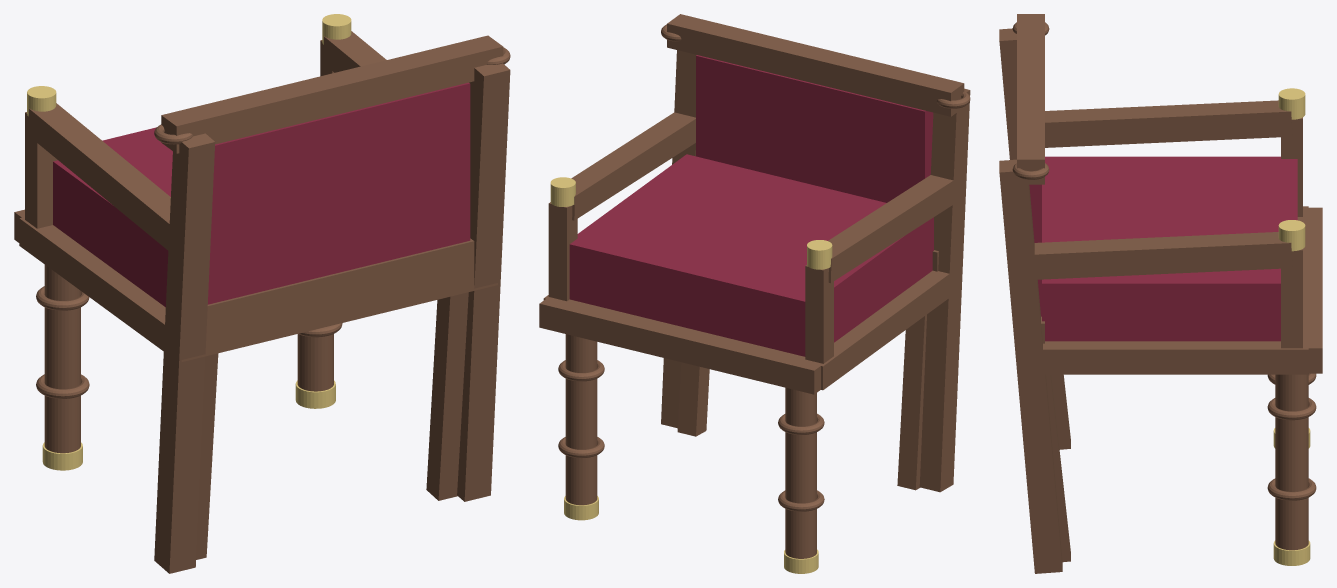
File: 10_armchair.fbx
The picture shows the model from 3 angles, left to right: view 1: azimuth 30°, elevation 25°; view 2: azimuth 150°, elevation 25°; view 3: azimuth 270°, elevation 25°; orthographic projection. The views are drawn at different scales.
Parts seen in each view (by area): view 1: BackPanel, BackPostL, BackPostR, BackRailTop, SeatCushion, BackRailBot, ArmL, SeatRailB, SeatRailL, BackLeg_24, FrontLeg_-24, BackLeg_-24 (+9 smaller); view 2: SeatCushion, BackPanel, BackPostL, BackRailTop, SeatRailF, ArmL, ArmR, SeatRailL, FrontLeg_24, FrontLeg_-24, BackLeg_-24, BackPostR (+7 smaller); view 3: SeatCushion, BackPostR, ArmR, ArmL, SeatRailR, FrontLeg_24, BackRailTop, SeatRailF, ArmPostR, BackPostL, BackLeg_24, ArmPostL (+7 smaller).
Boxes of the visible parts, box(x1,y1,x2,y2) form: BackPanel: box(207, 82, 470, 304); BackPostL: box(154, 133, 215, 573); BackPostR: box(457, 63, 510, 501); BackRailTop: box(161, 35, 503, 153); SeatCushion: box(53, 127, 172, 307); BackRailBot: box(206, 238, 474, 333); ArmL: box(28, 103, 171, 252); SeatRailB: box(181, 263, 497, 361); SeatRailL: box(19, 217, 171, 351); BackLeg_24: box(426, 292, 468, 500); FrontLeg_-24: box(44, 265, 80, 453); BackLeg_-24: box(196, 353, 218, 559); SeatCushion: box(569, 154, 933, 356); BackPanel: box(696, 55, 933, 202); BackPostL: box(919, 88, 970, 492); BackRailTop: box(667, 14, 964, 116); SeatRailF: box(539, 298, 820, 394); ArmL: box(828, 175, 955, 283); ArmR: box(571, 112, 695, 220); SeatRailL: box(800, 270, 955, 390); FrontLeg_24: box(565, 334, 597, 505); FrontLeg_-24: box(785, 387, 816, 558); BackLeg_-24: box(897, 314, 926, 490); BackPostR: box(661, 50, 696, 428); SeatCushion: box(1042, 156, 1297, 341); BackPostR: box(999, 159, 1062, 573); ArmR: box(1030, 232, 1292, 279); ArmL: box(1045, 100, 1292, 147); SeatRailR: box(1031, 338, 1308, 374); FrontLeg_24: box(1275, 374, 1308, 550); BackRailTop: box(1017, 14, 1044, 184); SeatRailF: box(1297, 207, 1322, 373); ArmPostR: box(1281, 249, 1302, 348); BackPostL: box(999, 28, 1016, 159); BackLeg_24: box(1046, 374, 1070, 562); ArmPostL: box(1281, 117, 1302, 216).
Size of the model in its own units: 66.6 by 82.59 by 58.19.
